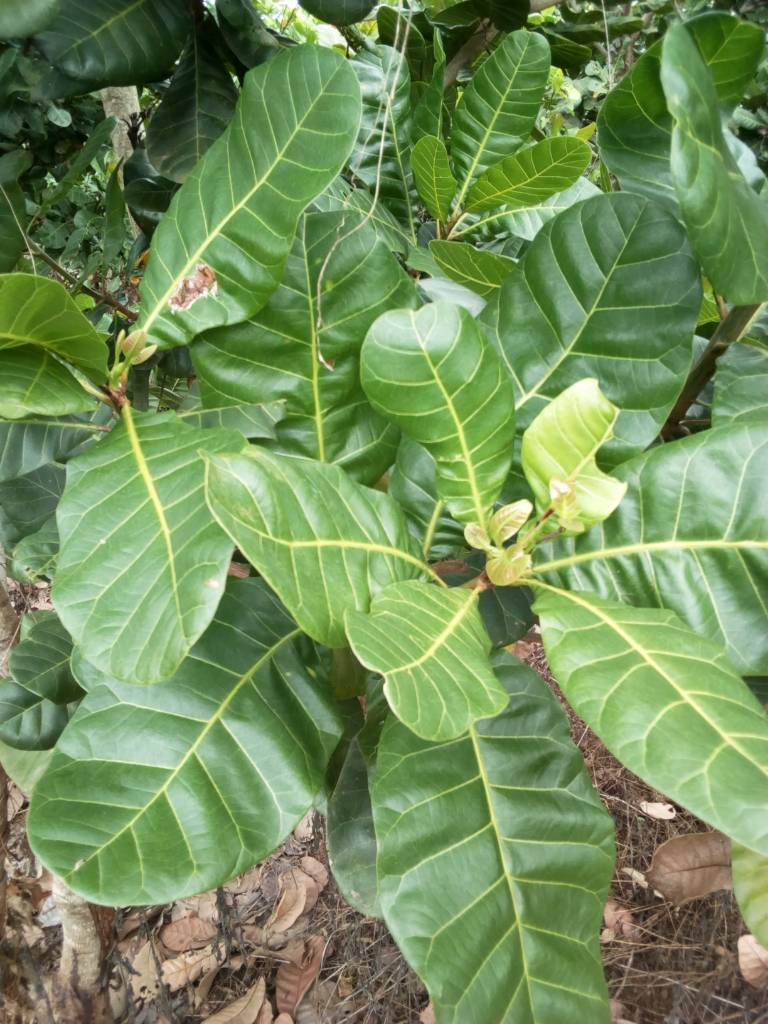Dysdercus wolkerii: (133, 38, 390, 361)
